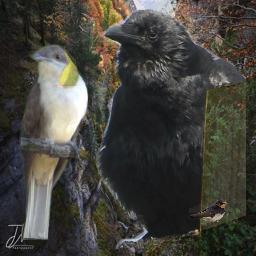Crow: (93, 7, 246, 249)
Cuckoo: (17, 44, 88, 240)
Swallow: (189, 199, 228, 223)
